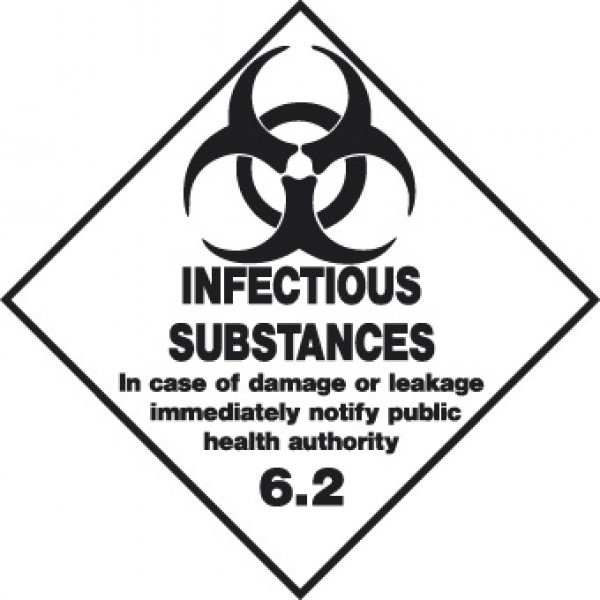InfectiousSubstance: (1, 2, 599, 600)
